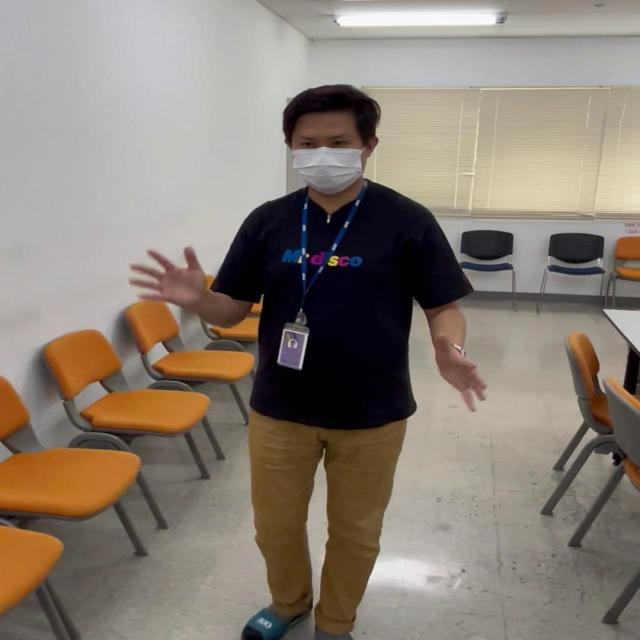bare_hand: (127, 241, 212, 310), (427, 337, 488, 414)
